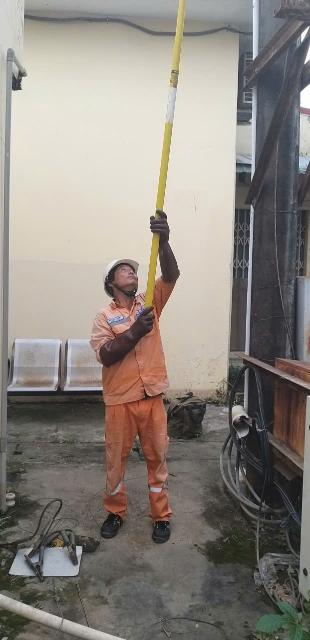gloves: (92, 311, 167, 361), (141, 211, 191, 285)
helmet: (88, 242, 145, 302)
shoes: (85, 506, 131, 541), (145, 503, 187, 539)
